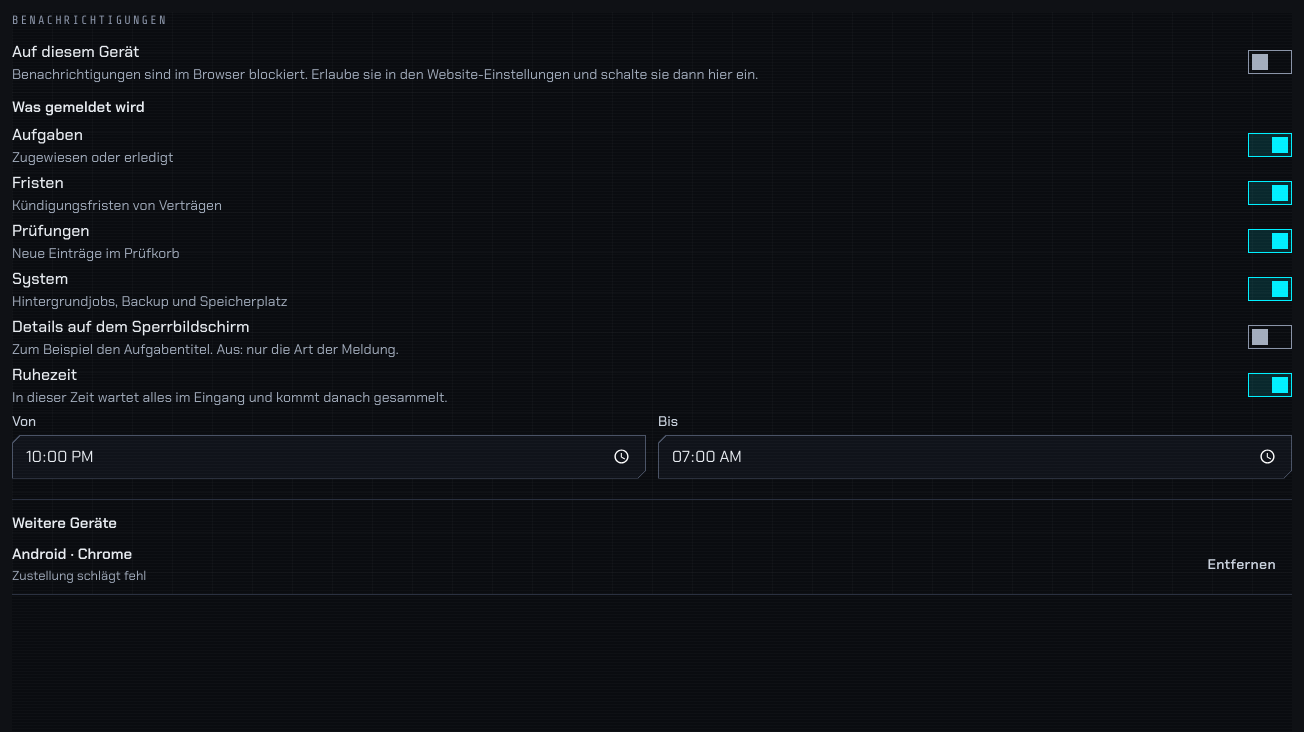
NotificationSettings › shows a conflict when the preferences changed on another device
Click the switch labelled "Ruhezeit" at (45, 374), box [12,362,1292,406]
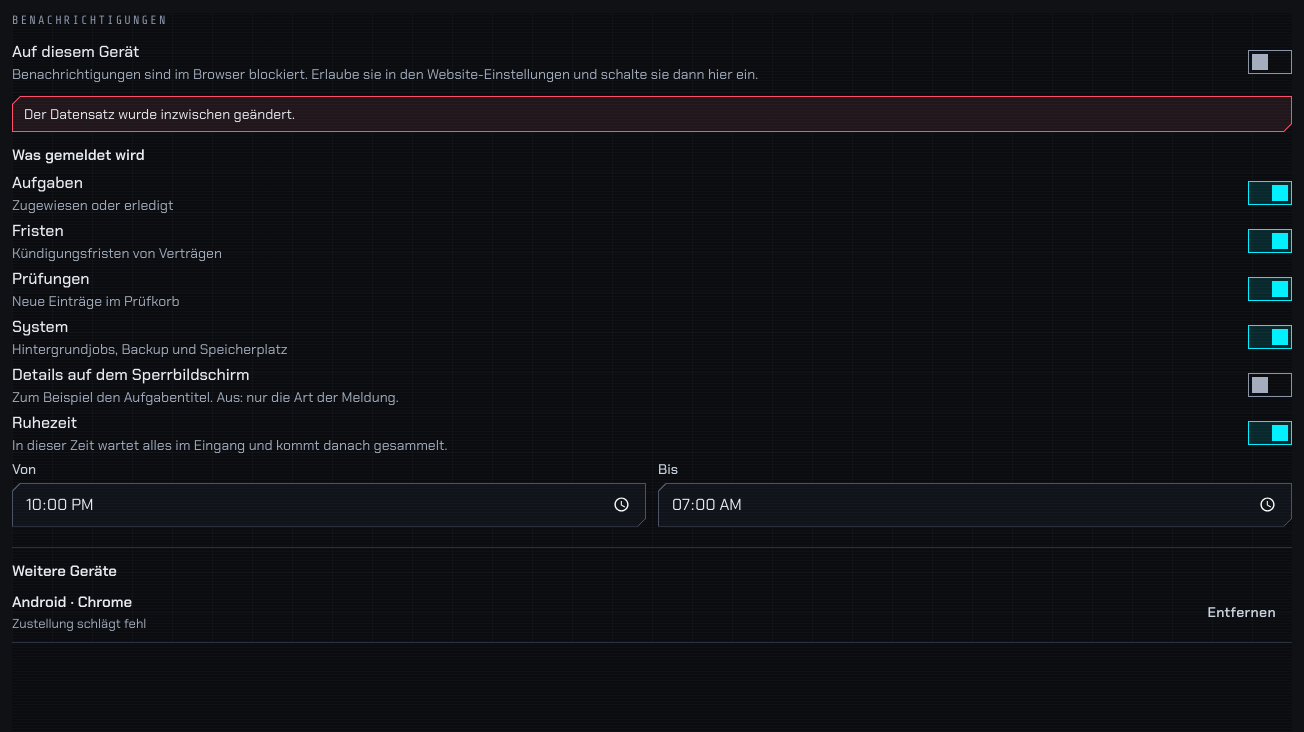
Expected: the text "Der Datensatz wurde inzwischen geändert." is shown, [24,105,295,123]
